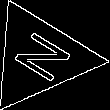N_SE: (4, 27, 75, 88)
